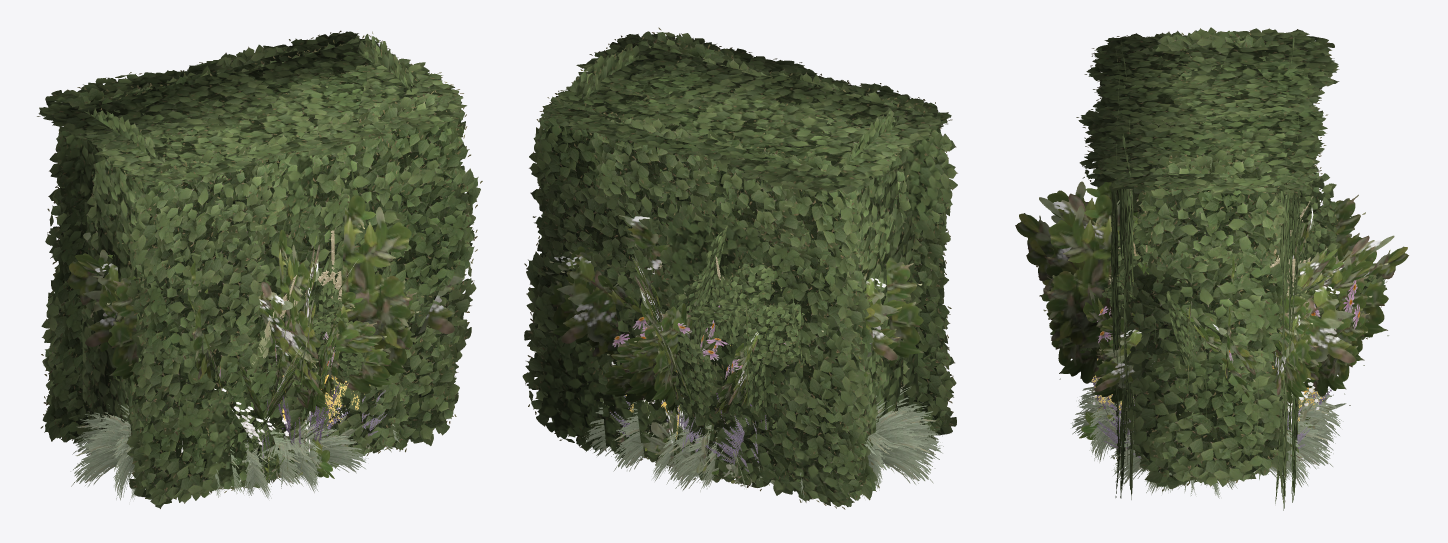
File: rosliny-v3.glb
3 views of the same model, side by side, from view 1: azimuth 30°, elevation 25°; view 2: azimuth 150°, elevation 25°; view 3: azimuth 270°, elevation 25° (orthographic). The views are drawn at different scales.
Visible parts, largest first — view 1: ZYWOPLOT_2, ZYWOPLOT_1, ZYWOPLOT_3, KRZEW_3, KRZEW_1, TRAWA_NISKA_1, KRZEW_2, BYLINA_FIOLET_1, TRAWA_NISKA_3, TRAWA_WYSOKA_2, BYLINA_BIALA_3, TRAWA_NISKA_2; view 2: ZYWOPLOT_2, ZYWOPLOT_1, ZYWOPLOT_3, KRZEW_2, KRZEW_3, KRZEW_1, TRAWA_NISKA_1, BYLINA_ROZ_1, TRAWA_NISKA_3, BYLINA_FIOLET_3, BYLINA_FIOLET_2; view 3: ZYWOPLOT_2, ZYWOPLOT_1, KRZEW_3, ZYWOPLOT_3, KRZEW_1, KRZEW_2, TRAWA_NISKA_1, TRAWA_NISKA_3, BYLINA_ROZ_1, BYLINA_ROZ_3.
Boxes of the visible parts, box(x1,y1,x2,y2) form: ZYWOPLOT_2: box(39, 30, 482, 500); ZYWOPLOT_1: box(37, 35, 476, 508); ZYWOPLOT_3: box(50, 36, 472, 503); KRZEW_3: box(67, 195, 464, 415); KRZEW_1: box(75, 230, 422, 428); TRAWA_NISKA_1: box(70, 397, 368, 500); KRZEW_2: box(237, 240, 393, 424); BYLINA_FIOLET_1: box(278, 382, 342, 478); TRAWA_NISKA_3: box(220, 424, 401, 498); TRAWA_WYSOKA_2: box(250, 230, 341, 367); BYLINA_BIALA_3: box(181, 371, 288, 471); TRAWA_NISKA_2: box(92, 404, 350, 497); ZYWOPLOT_2: box(526, 34, 957, 500); ZYWOPLOT_1: box(522, 27, 956, 509); ZYWOPLOT_3: box(536, 43, 945, 492); KRZEW_2: box(622, 225, 804, 419); KRZEW_3: box(545, 215, 897, 408); KRZEW_1: box(559, 251, 924, 407); TRAWA_NISKA_1: box(582, 384, 943, 501); BYLINA_ROZ_1: box(612, 305, 791, 482); TRAWA_NISKA_3: box(655, 412, 745, 491); BYLINA_FIOLET_3: box(704, 416, 759, 483); BYLINA_FIOLET_2: box(609, 395, 704, 462); ZYWOPLOT_2: box(1076, 28, 1338, 503); ZYWOPLOT_1: box(1089, 31, 1339, 510); KRZEW_3: box(1015, 191, 1408, 403); ZYWOPLOT_3: box(1093, 27, 1327, 502); KRZEW_1: box(1043, 181, 1388, 402); KRZEW_2: box(1079, 172, 1387, 397); TRAWA_NISKA_1: box(1071, 396, 1335, 487); TRAWA_NISKA_3: box(1078, 377, 1343, 494); BYLINA_ROZ_1: box(1083, 280, 1360, 447); BYLINA_ROZ_3: box(1096, 397, 1147, 471).
Size of the model in its own units: 1.38 by 1.25 by 1.34.
Materials: 1 (1 with a texture image).
